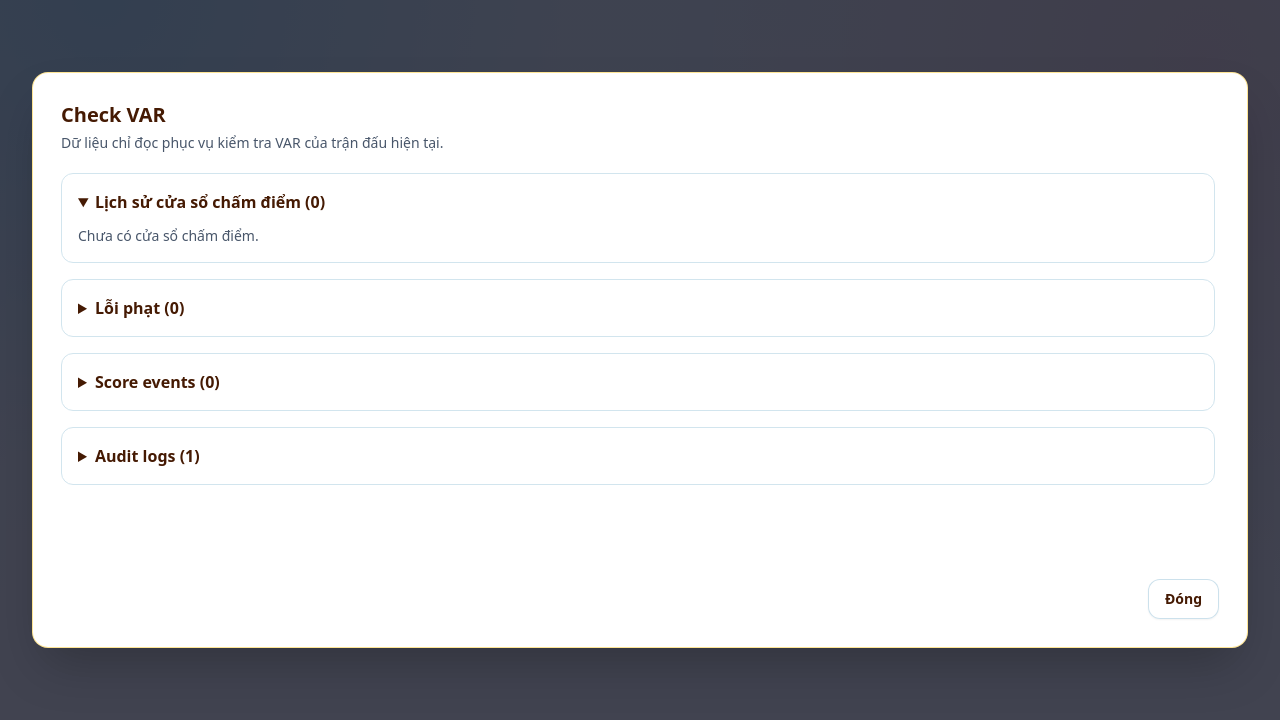
Test: VarMonitoringDialog › does not show a prior match response after matchId changes
Click the heading "Audit logs (1)". click: [147, 456]
box: [95, 445, 200, 467]
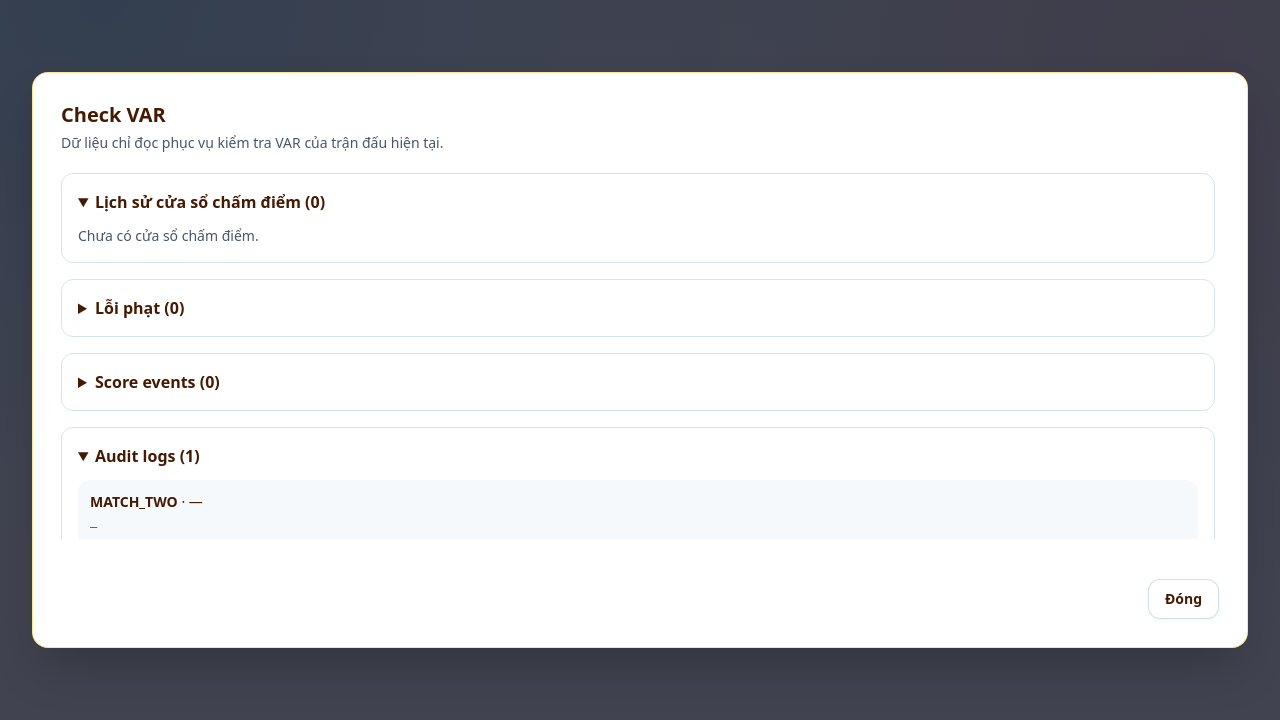
Expected: the text "MATCH_TWO" is shown, [90, 492, 178, 511]
